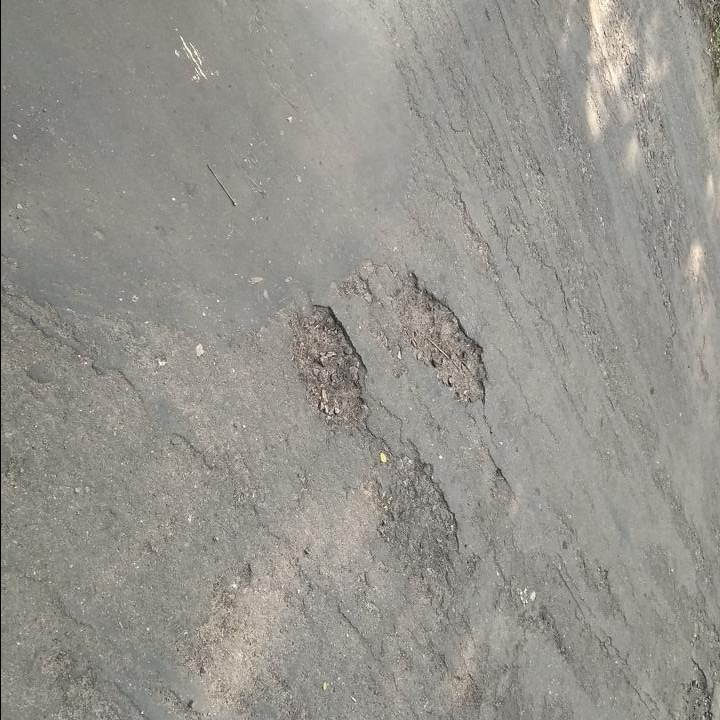pothole: (391, 264, 494, 409), (370, 430, 463, 587), (284, 298, 374, 430)
